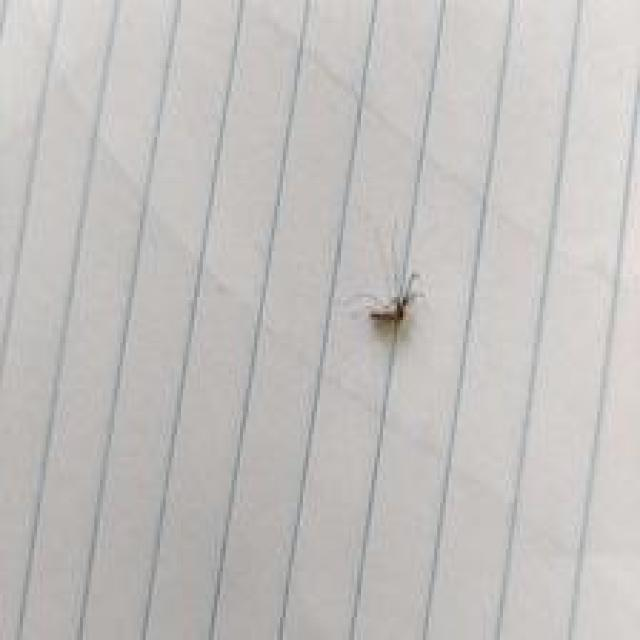Culex: (366, 271, 423, 326)
